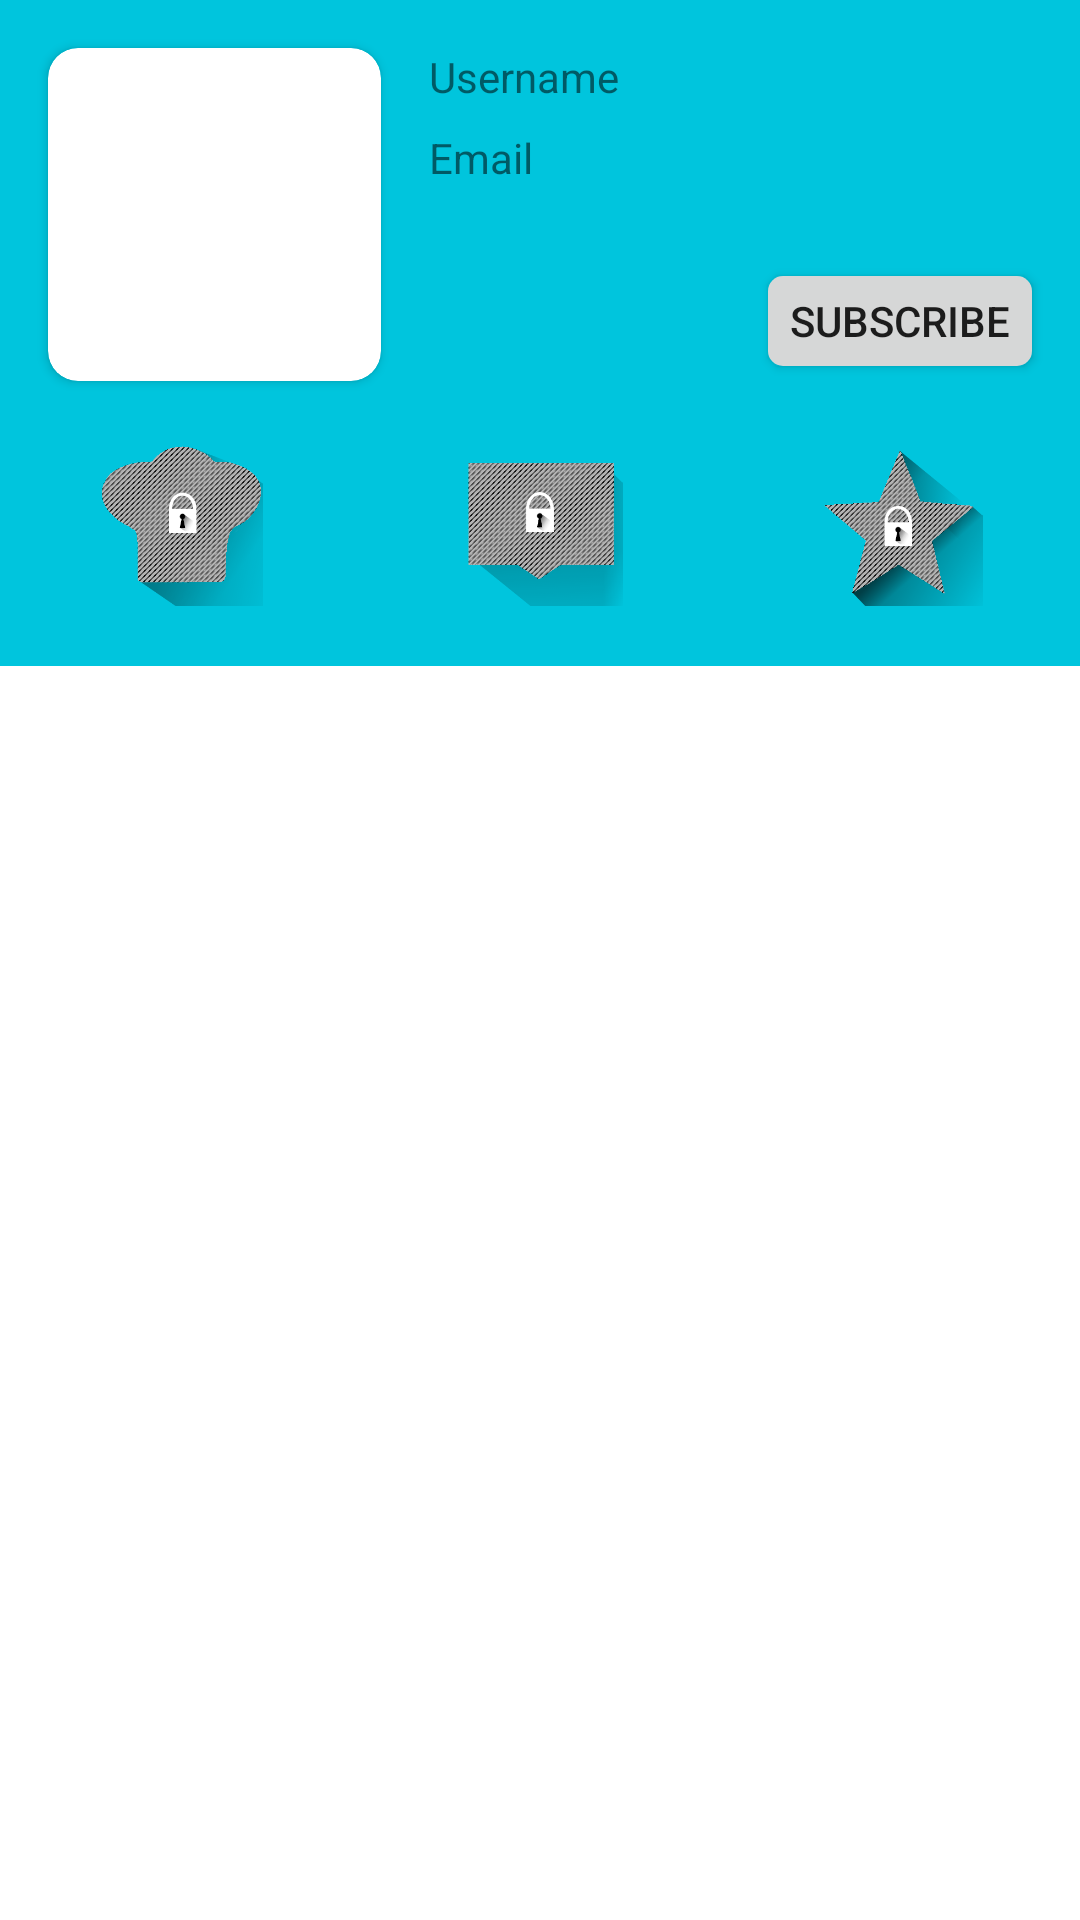

Where icons sit on this 1080×1920 app screen, as (x1, y1, x2, y2):
cuistot achievement: (102, 446, 263, 606)
favourite achievement: (824, 451, 983, 606)
followed achievement: (468, 463, 623, 606)
